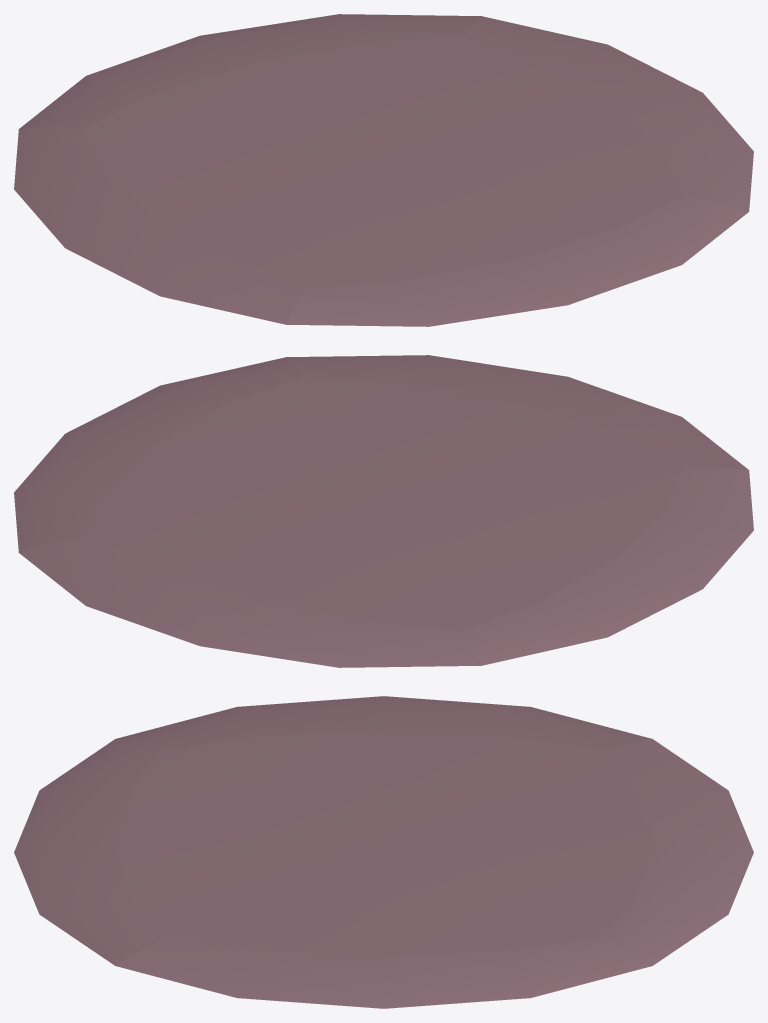
File: alfombra_lil.fbx
The picture shows the model from 3 angles, top to bottom: view 1: azimuth 30°, elevation 25°; view 2: azimuth 150°, elevation 25°; view 3: azimuth 270°, elevation 25°; orthographic projection.
Parts seen in each view (by area): view 1: alfombra_lil.001; view 2: alfombra_lil.001; view 3: alfombra_lil.001.
Part boxes in pixels (left/top/right/bottom): alfombra_lil.001: left=14, top=14, right=753, bottom=326; alfombra_lil.001: left=14, top=355, right=753, bottom=667; alfombra_lil.001: left=14, top=696, right=753, bottom=1008.
Bounding box in the file's own units: 2.14 × 2.14 × 0.0833.
